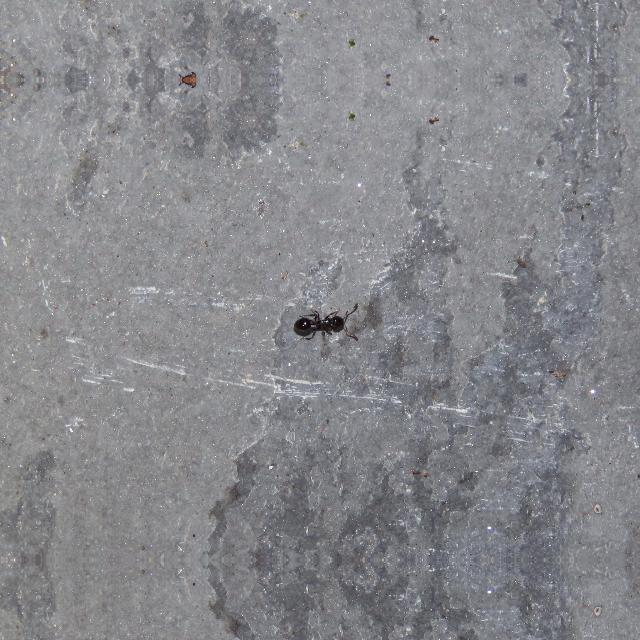Temnothorax: (296, 300, 354, 342)
